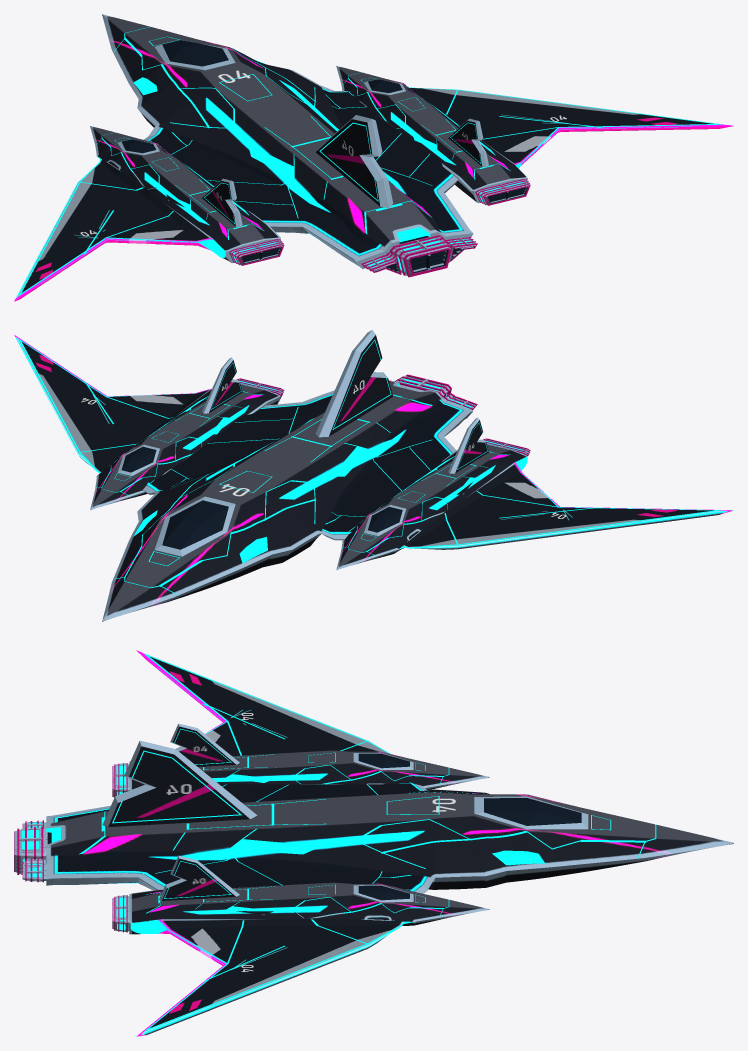
The model's file is neon-black.glb.
3 views of the same model, one above another, from view 1: azimuth 30°, elevation 25°; view 2: azimuth 150°, elevation 25°; view 3: azimuth 270°, elevation 25° (orthographic). The views are drawn at different scales.
Parts seen in each view (by area): view 1: CENTER_AF04_BODY_CENTER, SIDE_L_AF04_BODY_CENTER, SIDE_R_AF04_BODY_CENTER, STYLE_B_NOTCHED_FIN_center, CENTER_AF04_CANOPY_0, STYLE_B_NOTCHED_FIN_left, STYLE_B_NOTCHED_FIN_right, CENTER_AF04_CENTER_CANOPY_FRAME_USER; view 2: CENTER_AF04_BODY_CENTER, SIDE_L_AF04_BODY_CENTER, SIDE_R_AF04_BODY_CENTER, STYLE_B_NOTCHED_FIN_center, CENTER_AF04_CANOPY_0, STYLE_B_NOTCHED_FIN_right, STYLE_B_NOTCHED_FIN_left, CENTER_AF04_CENTER_CANOPY_FRAME_USER, SIDE_L_AF04_CANOPY_0, SIDE_R_AF04_CANOPY_0; view 3: CENTER_AF04_BODY_CENTER, SIDE_R_AF04_BODY_CENTER, SIDE_L_AF04_BODY_CENTER, STYLE_B_NOTCHED_FIN_center, STYLE_B_NOTCHED_FIN_right, CENTER_AF04_CANOPY_0, STYLE_B_NOTCHED_FIN_left, CENTER_AF04_CENTER_CANOPY_FRAME_USER.
Part boxes in pixels (x1,y1,x2,y2): CENTER_AF04_BODY_CENTER: (102,14,473,269); SIDE_L_AF04_BODY_CENTER: (14,126,280,301); SIDE_R_AF04_BODY_CENTER: (336,66,733,203); STYLE_B_NOTCHED_FIN_center: (316,115,393,208); CENTER_AF04_CANOPY_0: (162,40,228,66); STYLE_B_NOTCHED_FIN_left: (202,178,242,227); STYLE_B_NOTCHED_FIN_right: (448,118,488,167); CENTER_AF04_CENTER_CANOPY_FRAME_USER: (155,40,235,70); CENTER_AF04_BODY_CENTER: (102,381,472,621); SIDE_L_AF04_BODY_CENTER: (336,444,733,570); SIDE_R_AF04_BODY_CENTER: (14,335,280,510); STYLE_B_NOTCHED_FIN_center: (315,330,393,437); CENTER_AF04_CANOPY_0: (162,500,228,549); STYLE_B_NOTCHED_FIN_right: (202,357,242,413); STYLE_B_NOTCHED_FIN_left: (448,417,488,473); CENTER_AF04_CENTER_CANOPY_FRAME_USER: (154,496,235,556); SIDE_L_AF04_CANOPY_0: (368,507,402,532); SIDE_R_AF04_CANOPY_0: (121,446,156,472); CENTER_AF04_BODY_CENTER: (46,782,733,893); SIDE_R_AF04_BODY_CENTER: (129,882,489,1036); SIDE_L_AF04_BODY_CENTER: (129,650,489,790); STYLE_B_NOTCHED_FIN_center: (102,740,257,827); STYLE_B_NOTCHED_FIN_right: (159,855,239,900); CENTER_AF04_CANOPY_0: (484,798,581,825); STYLE_B_NOTCHED_FIN_left: (170,723,239,766); CENTER_AF04_CENTER_CANOPY_FRAME_USER: (474,796,588,829).
Size of the model in its own units: 16.84 by 2.72 by 13.27.
Materials: 15 (5 with a texture image).
